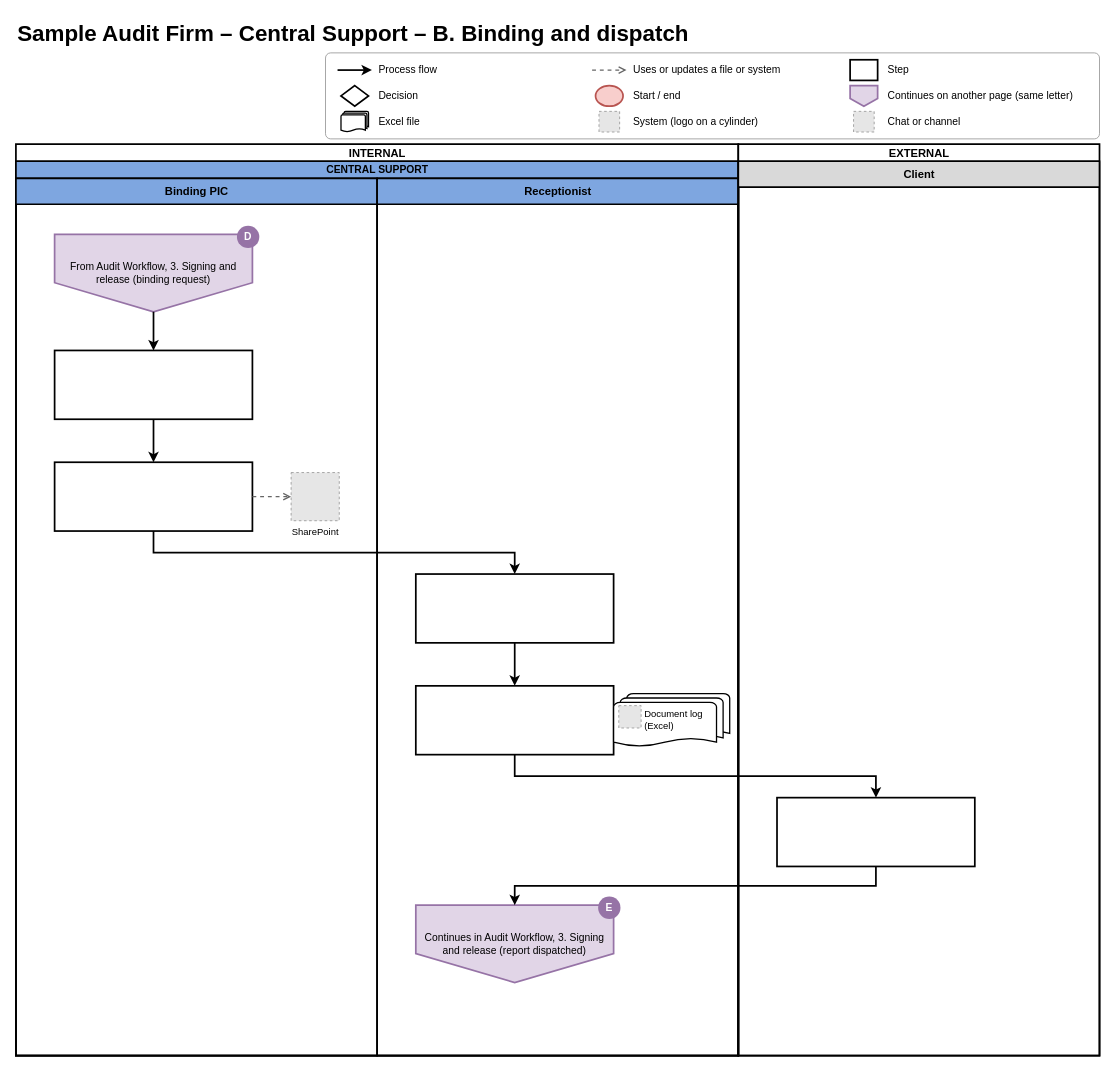
Some shapes in this 1115 by 1071 pixel diagram are drawn without their labels. Grey dashed boxes stand in for pictures. Here are the shapes that lost their labels. From the top down, the centre of each, then its label:
At point (153, 384): "Binding PIC prints and binds the signed report Time: Within 2 working days".
At point (153, 496): "Binding PIC scans the signed report to the client folder in SharePoint".
At point (514, 608): "Receptionist dispatches the bound report by courier".
At point (514, 720): "Receptionist records the dispatch in the document log".
At point (875, 831): "Client receives the bound report".
